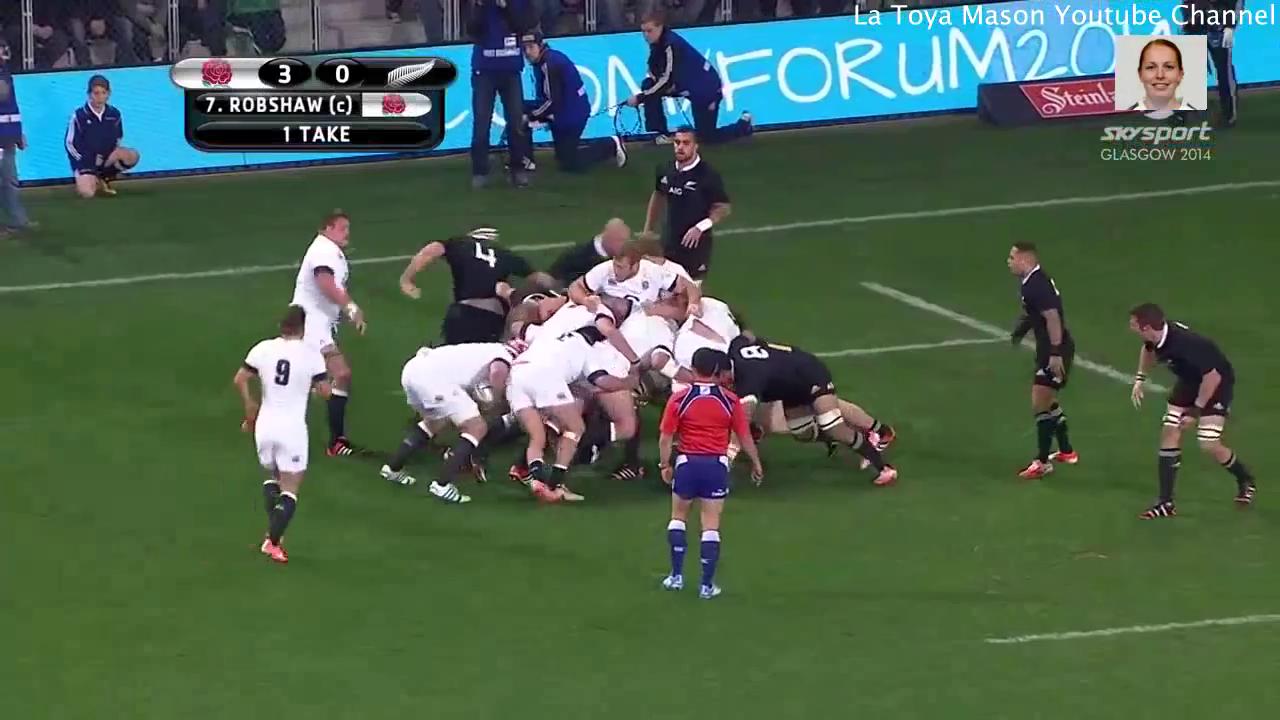ball: (463, 363, 513, 417)
maul: (377, 244, 897, 525)
player: (1112, 296, 1267, 524), (639, 348, 764, 609), (715, 329, 915, 485), (369, 324, 532, 512), (222, 302, 331, 568), (983, 235, 1094, 486), (289, 204, 377, 473), (489, 314, 597, 513), (394, 217, 535, 352), (635, 120, 733, 288), (549, 236, 705, 321), (544, 210, 633, 293)
